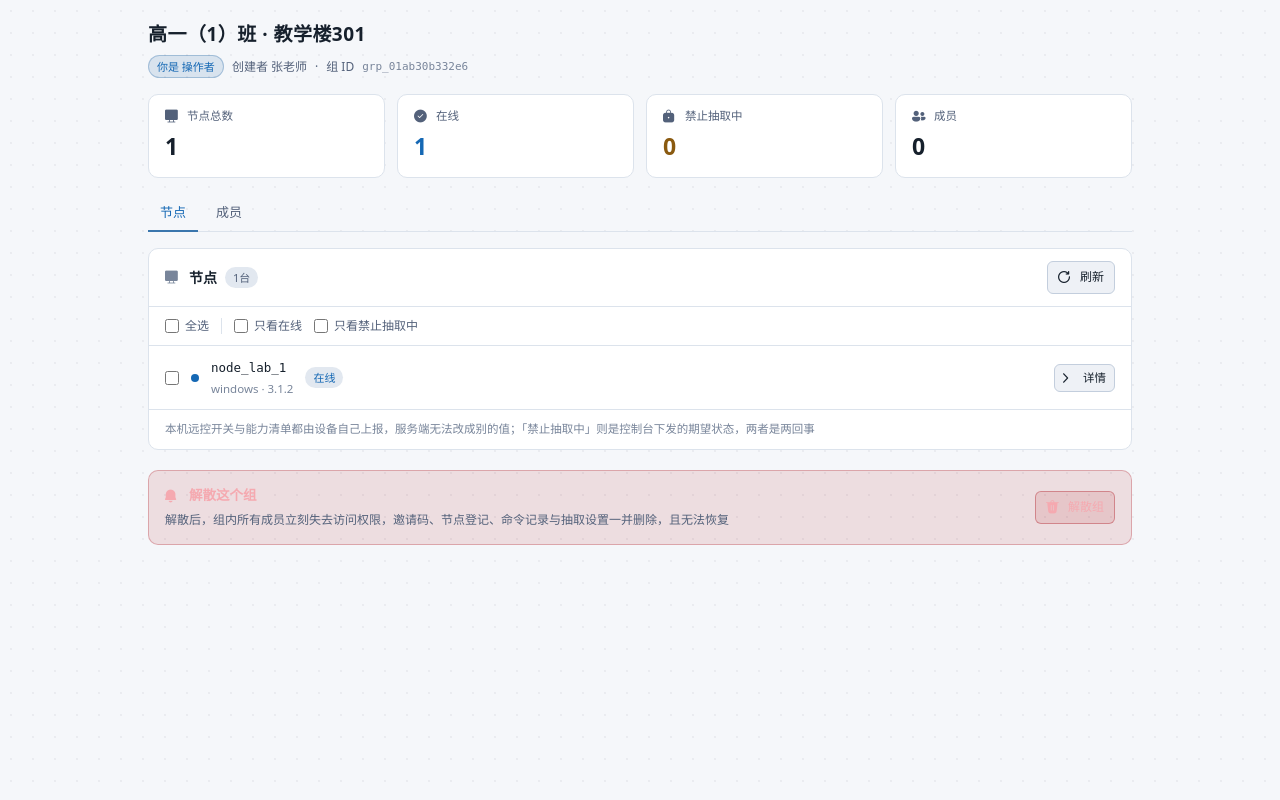
it: GroupDetailView 单节点展开区 › 三段能力名也翻成人话，不把协议常量显示给用户
The width and height of the screenshot is (1280, 800).
Click the button with test id "node-expand-node_lab_1": (1084, 378) [1054,364,1115,392]
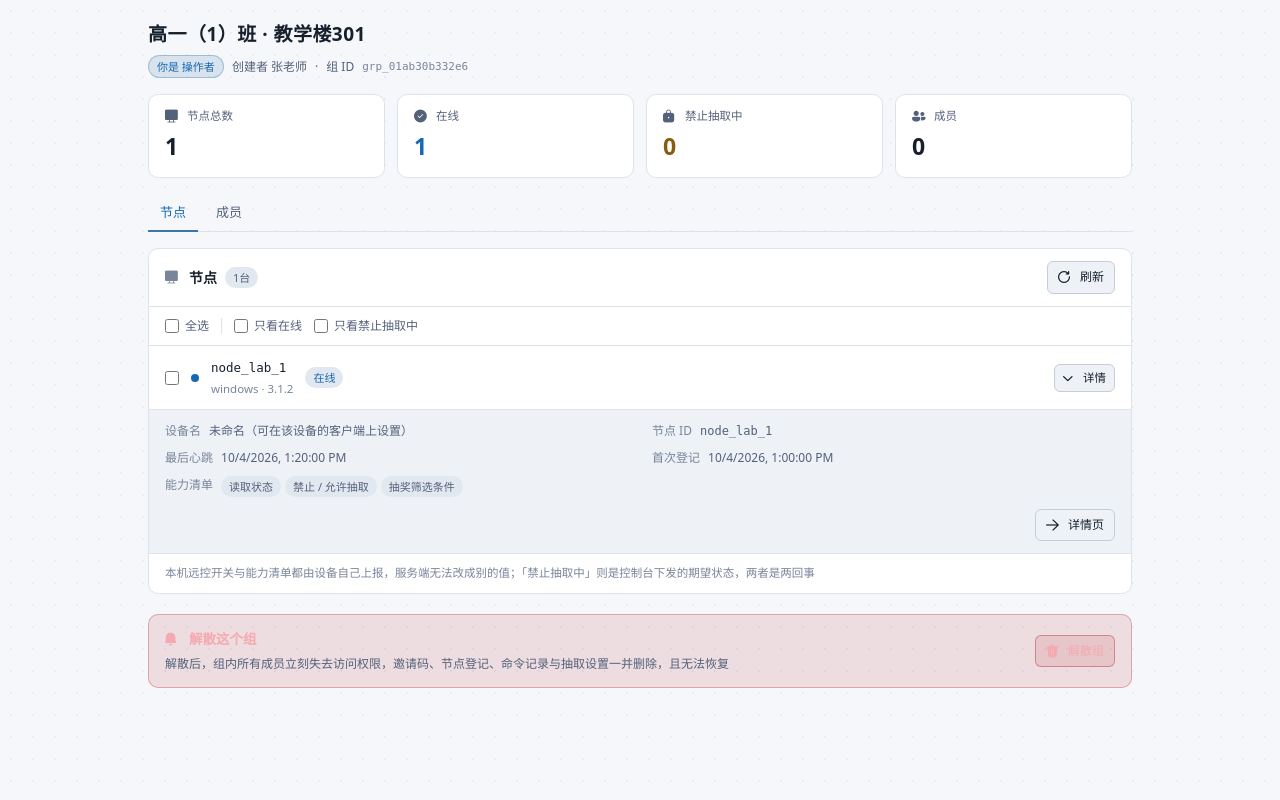
Expected: the element with test id "node-detail-node_lab_1" shows "抽奖筛选条件", [389,479,455,494]
